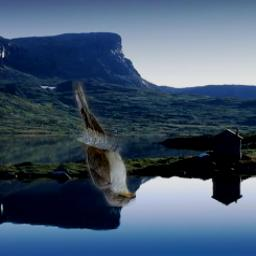Cuckoo: (73, 82, 137, 207)
